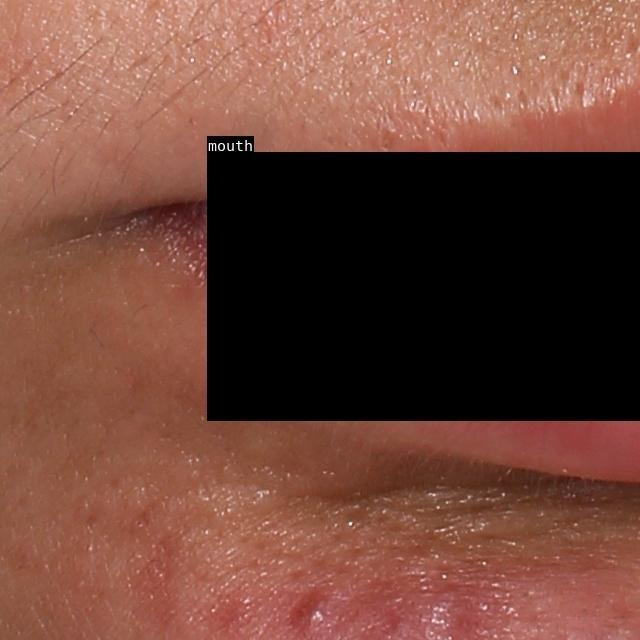papule: (281, 591, 354, 639)
